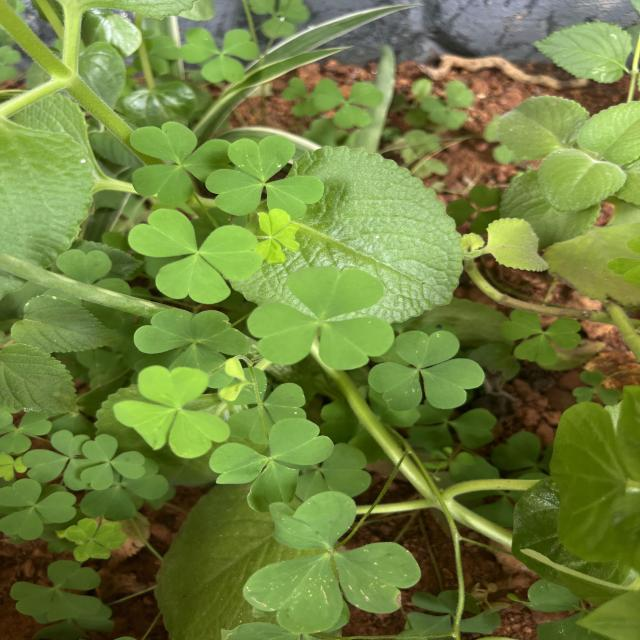Oxalis corniculata: (241, 490, 423, 635), (246, 266, 396, 372), (126, 208, 264, 304), (208, 416, 336, 514), (112, 364, 232, 459), (204, 135, 326, 221), (368, 329, 486, 412), (129, 121, 234, 206), (9, 558, 104, 622), (0, 478, 78, 541), (79, 433, 147, 491), (64, 516, 128, 562)
